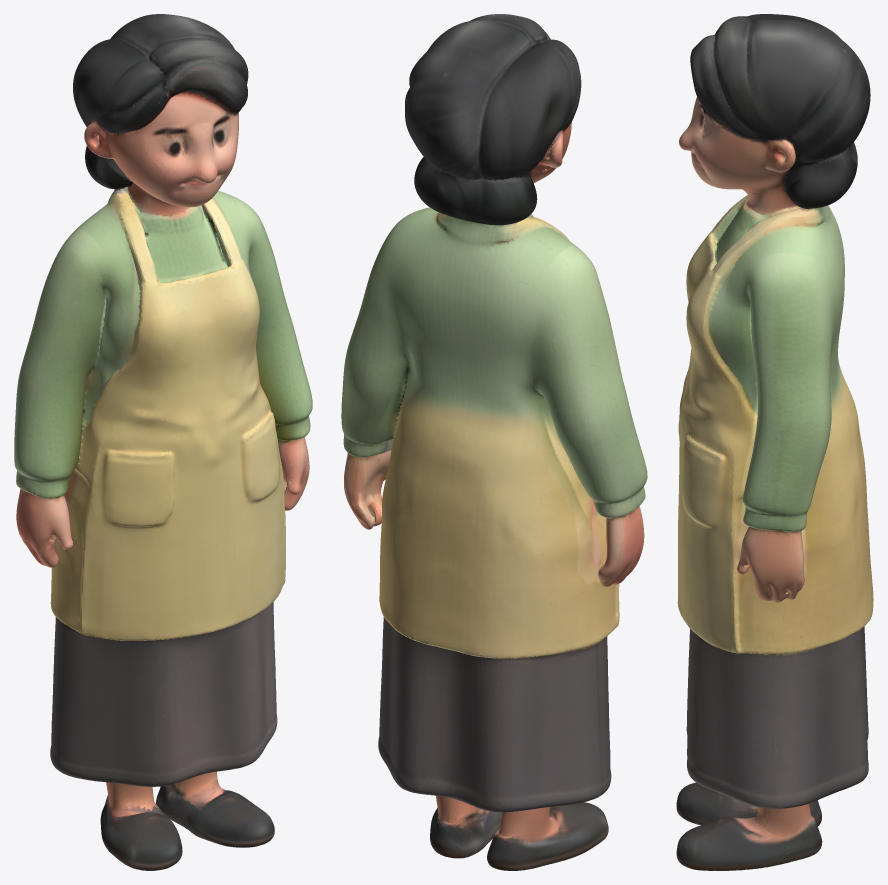
File: mother.glb
3 renders of one model, left to right at view 1: azimuth 30°, elevation 25°; view 2: azimuth 150°, elevation 25°; view 3: azimuth 270°, elevation 25°, orthographic. The views are drawn at different scales.
Parts seen in each view (by area): view 1: geometry_0; view 2: geometry_0; view 3: geometry_0.
Boxes of the visible parts, <box> form: geometry_0: <box>14,14,312,870</box>; geometry_0: <box>341,14,647,870</box>; geometry_0: <box>676,14,873,870</box>.
Bounding box in the file's own units: 0.0605 × 0.16 × 0.0351.
Materials: 1 (1 with a texture image).
